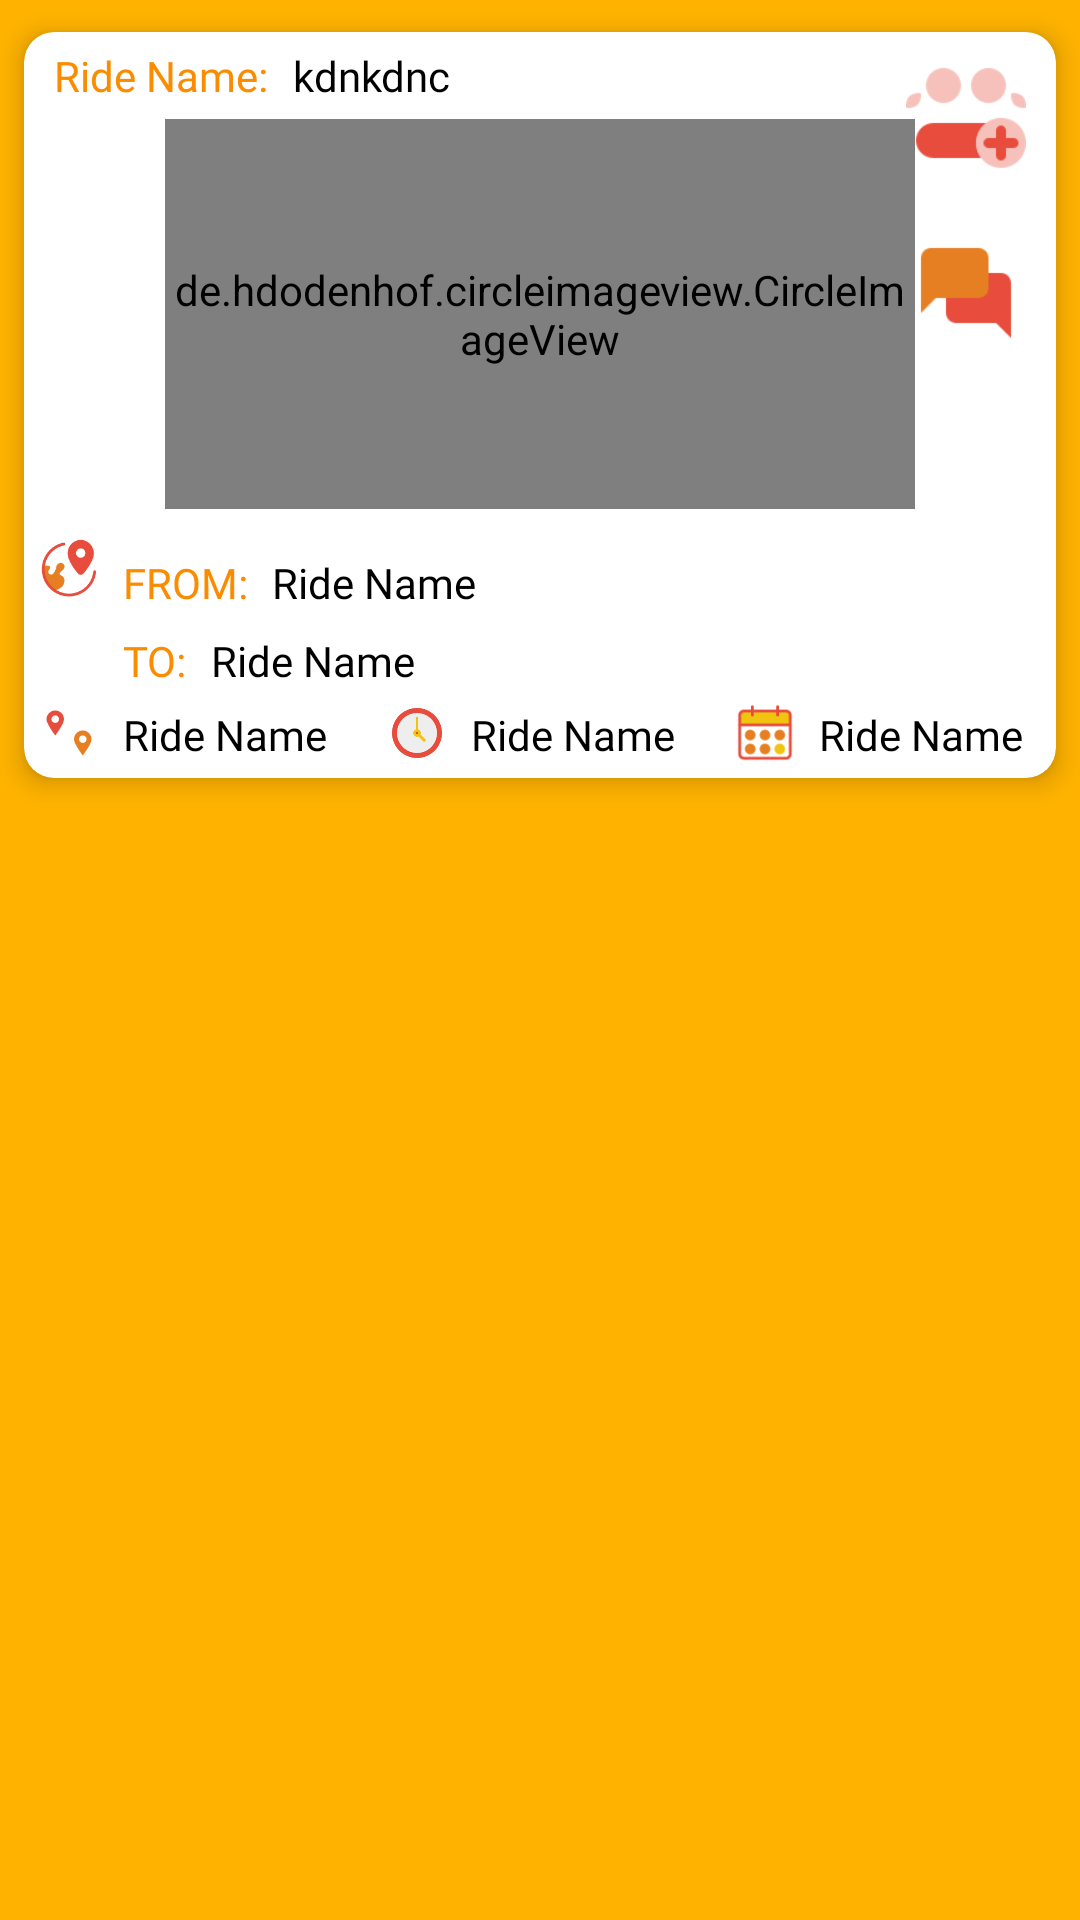

Named icons in this screenshot (1080×1920) and their centers, [x,y]:
calender: [765,732]
chat: [966,293]
clock: [417,733]
distance: [69,733]
joinn: [966,118]
locationn: [68,568]
